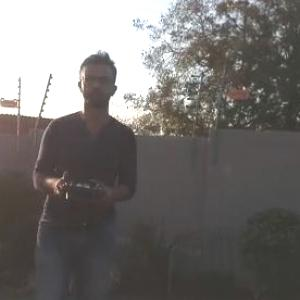follow: (22, 39, 143, 299)
